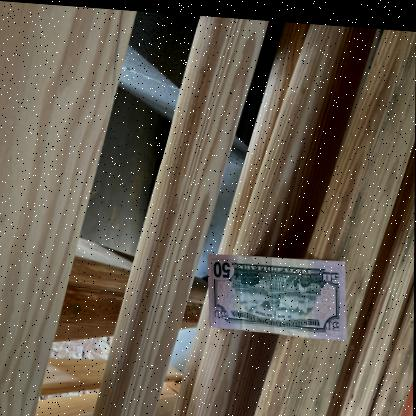fifty-back: (208, 245, 346, 335)
